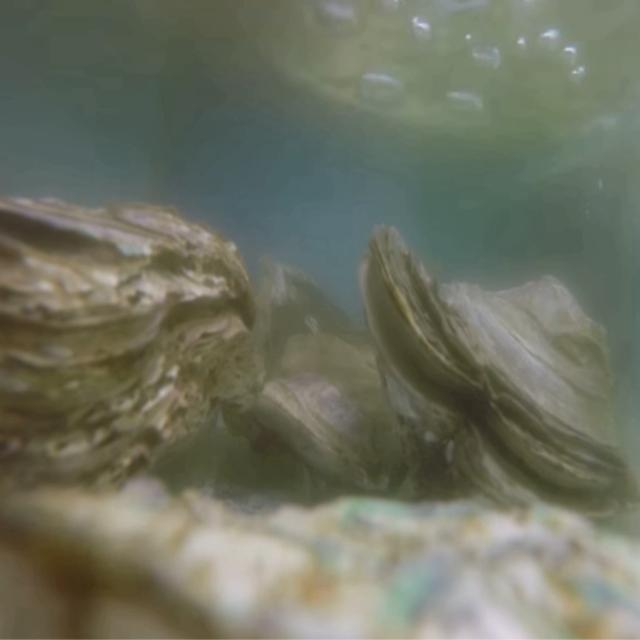Oyster-Closed: (0, 196, 259, 538)
Oyster-Indeterminate: (0, 479, 640, 640), (260, 329, 420, 504)
Oyster-Open: (358, 223, 640, 542)
